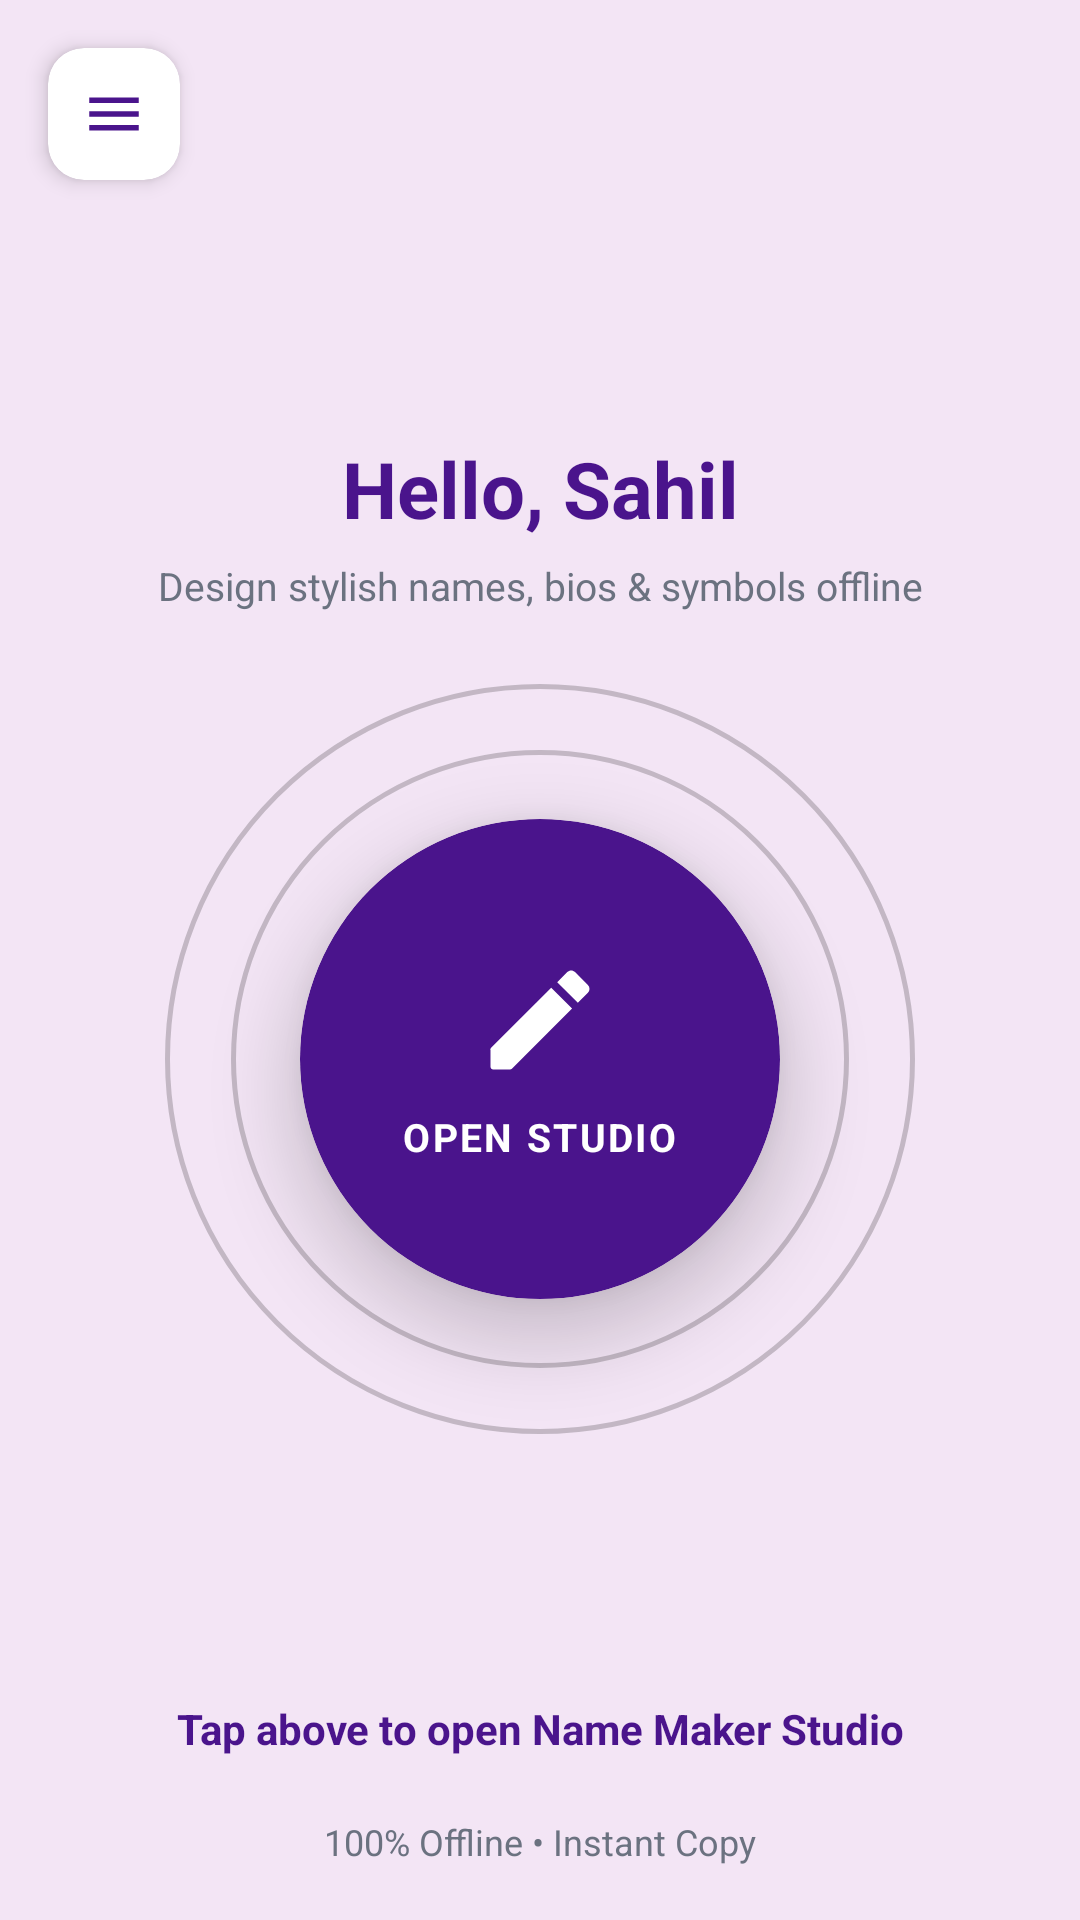

Named icons in this screenshot (1080 x 1920) and their bounding boxes, (x1,y1,x2,y2):
Sidebar Menu: (89,97,139,131)
